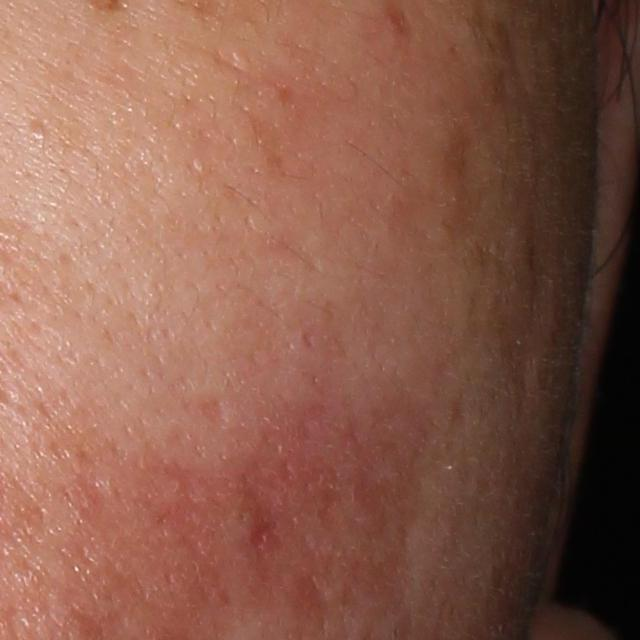atrophic_scar: (189, 390, 230, 429)
